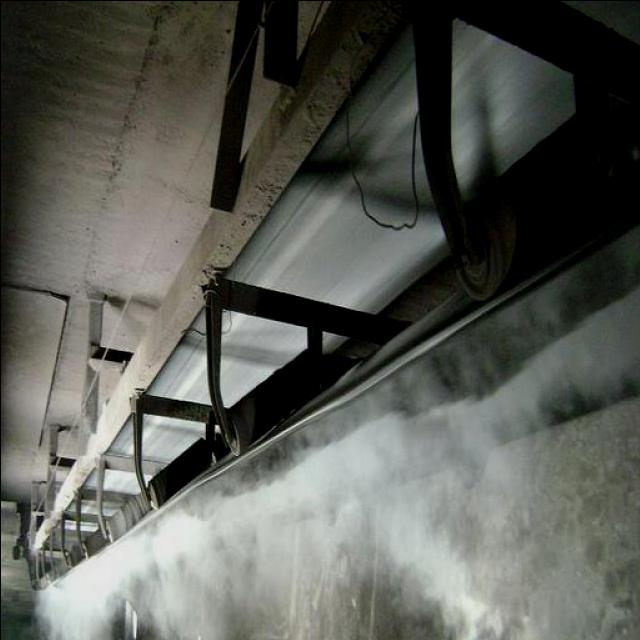conveyor: (42, 211, 640, 596)
